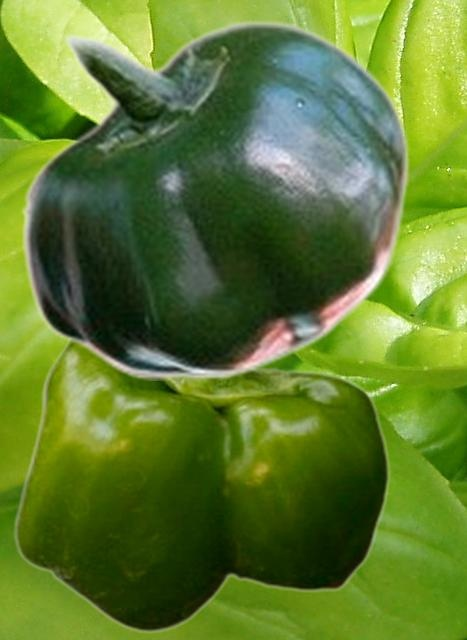bell_pepper: (19, 19, 409, 379), (13, 341, 389, 633)
